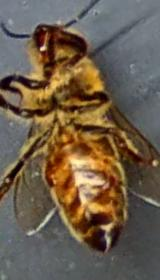varroa_mite: (40, 151, 66, 193)
